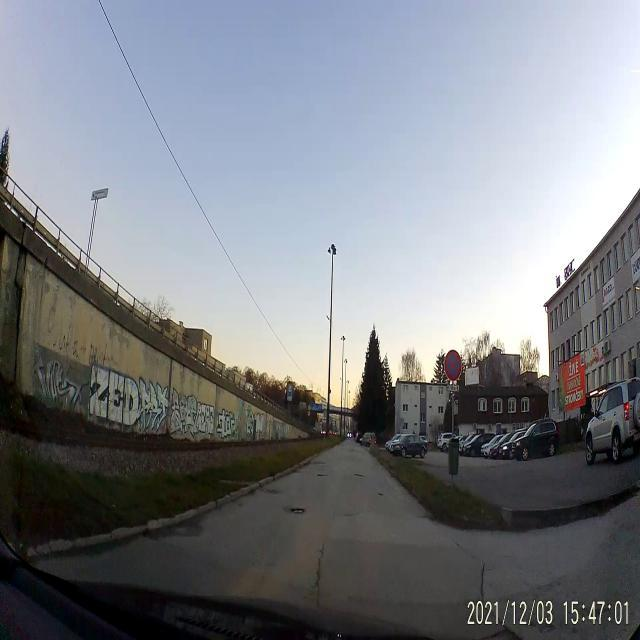Pothole: (288, 504, 306, 519)
